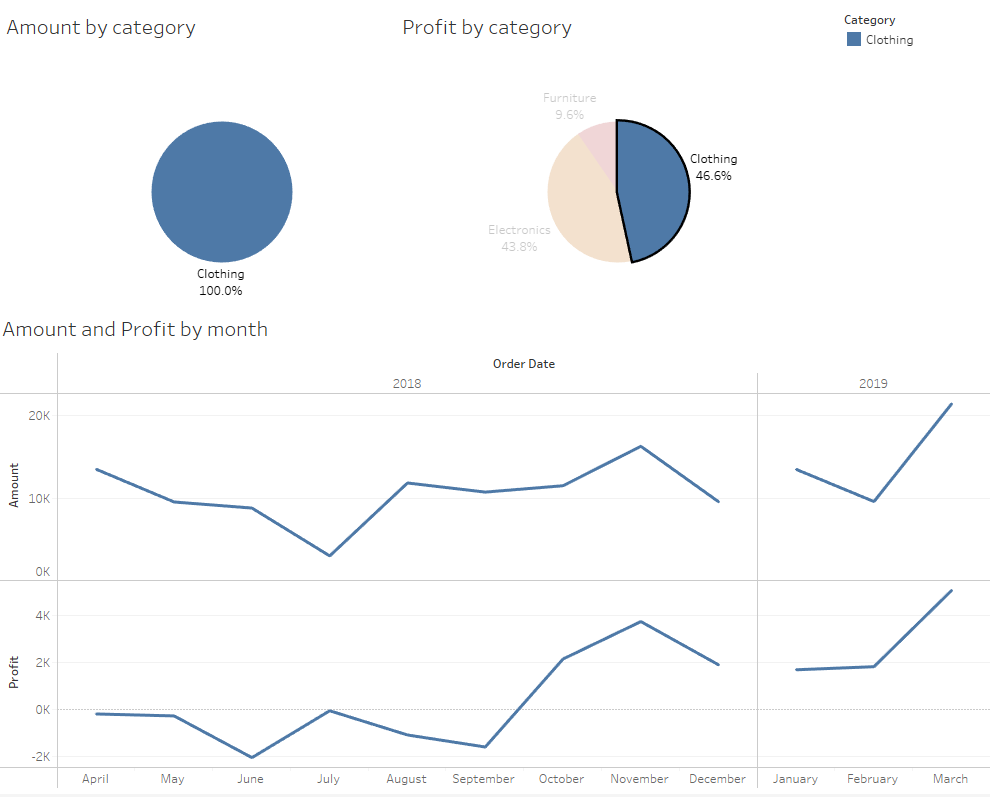

The dashboard page shown, as its layout file describes it:
{"tool":"tableau","page":{"name":"Dashboard 1","canvas":[1000,800],"ordinal":0},"visuals":[{"type":"worksheet","title":"Sheet 1","mark":"Pie","box":[6,14,440,325]},{"type":"worksheet","title":"Sheet 2","mark":"Pie","box":[402,14,440,325]},{"type":"legend","title":"Sheet 1","param":"[federated.0m88nqi1w2g4np1cgb4lk1v1m7ds].[none:Category:nk]","box":[848,17,140,78]},{"type":"worksheet","title":"Sheet 3","mark":"Automatic","rows":["Amount","Profit"],"cols":["Order Date","Order Date"],"box":[2,316,993,479]}]}

Visuals, with their boxes in screenshot pixels (x1, y1, x2, y2), scaled from the page's 1000x800 canvas onto the 990x797 screenshot:
"Sheet 1" worksheet (Pie marks): box=[6, 14, 442, 338]
"Sheet 2" worksheet (Pie marks): box=[398, 14, 834, 338]
"Sheet 1" legend: box=[840, 17, 978, 95]
"Sheet 3" worksheet: box=[2, 315, 985, 792]
